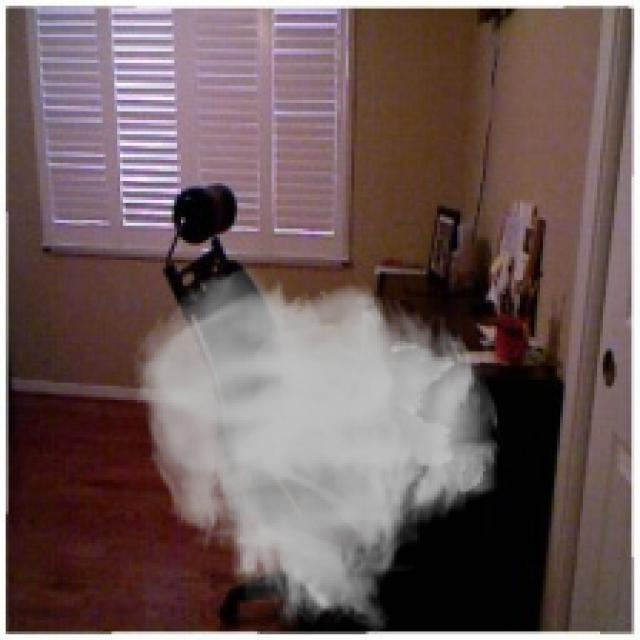smoke: (131, 266, 503, 637)
